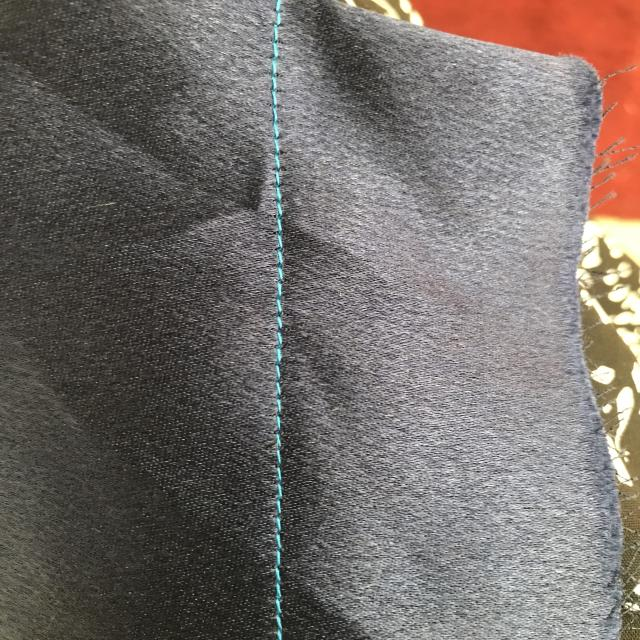good: (264, 61, 297, 208), (264, 294, 292, 433), (269, 467, 290, 599)
